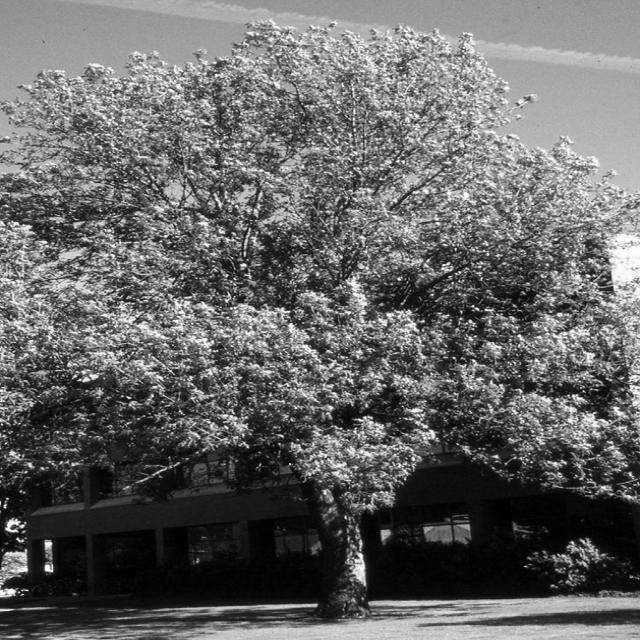Fraxinus latifolia: (0, 21, 640, 618)
